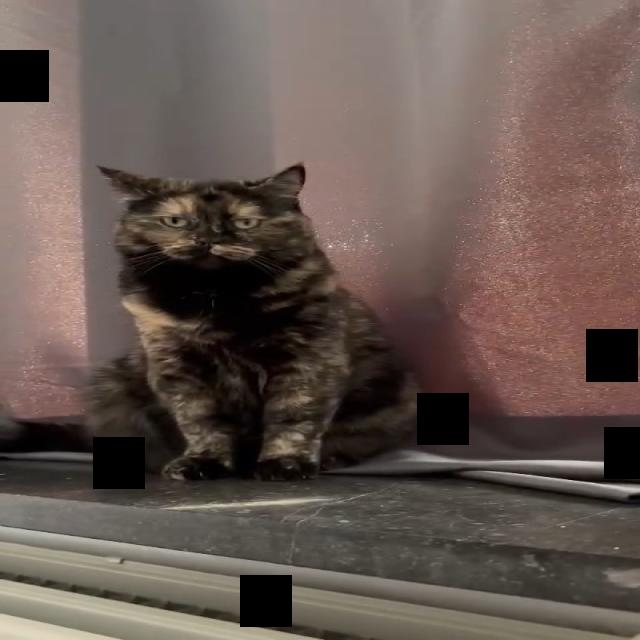authorized: (81, 162, 424, 482)
